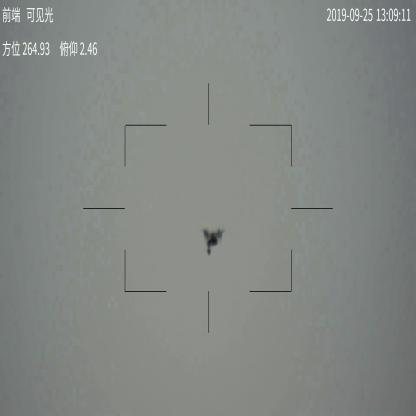uav: (202, 224, 223, 256)
